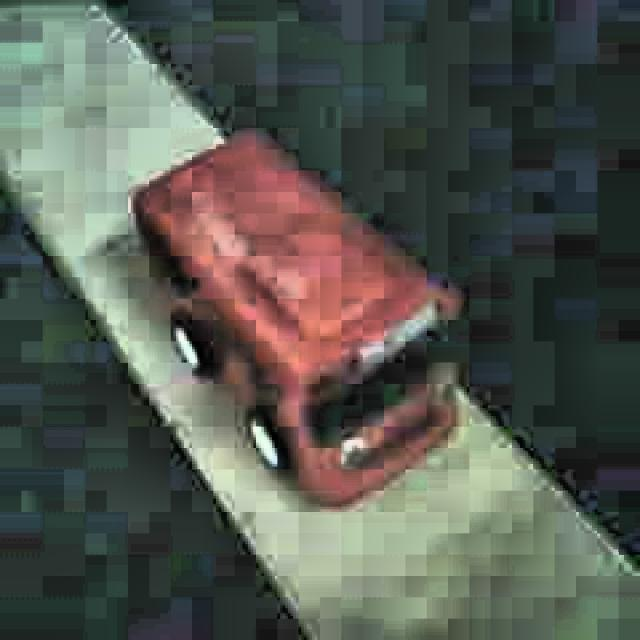bus: (129, 132, 459, 514)
